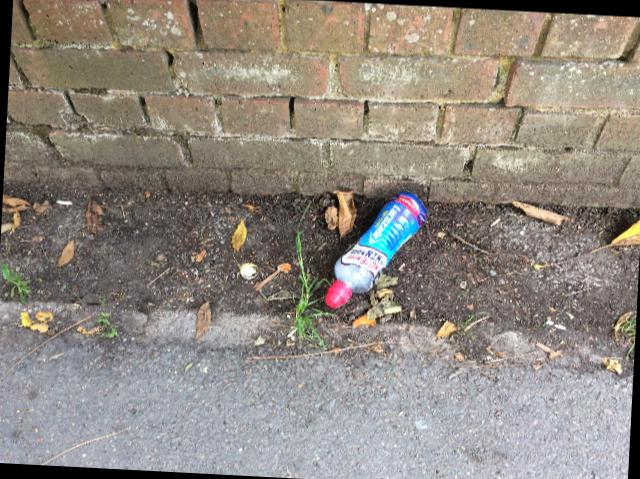plastic: (324, 191, 426, 307)
